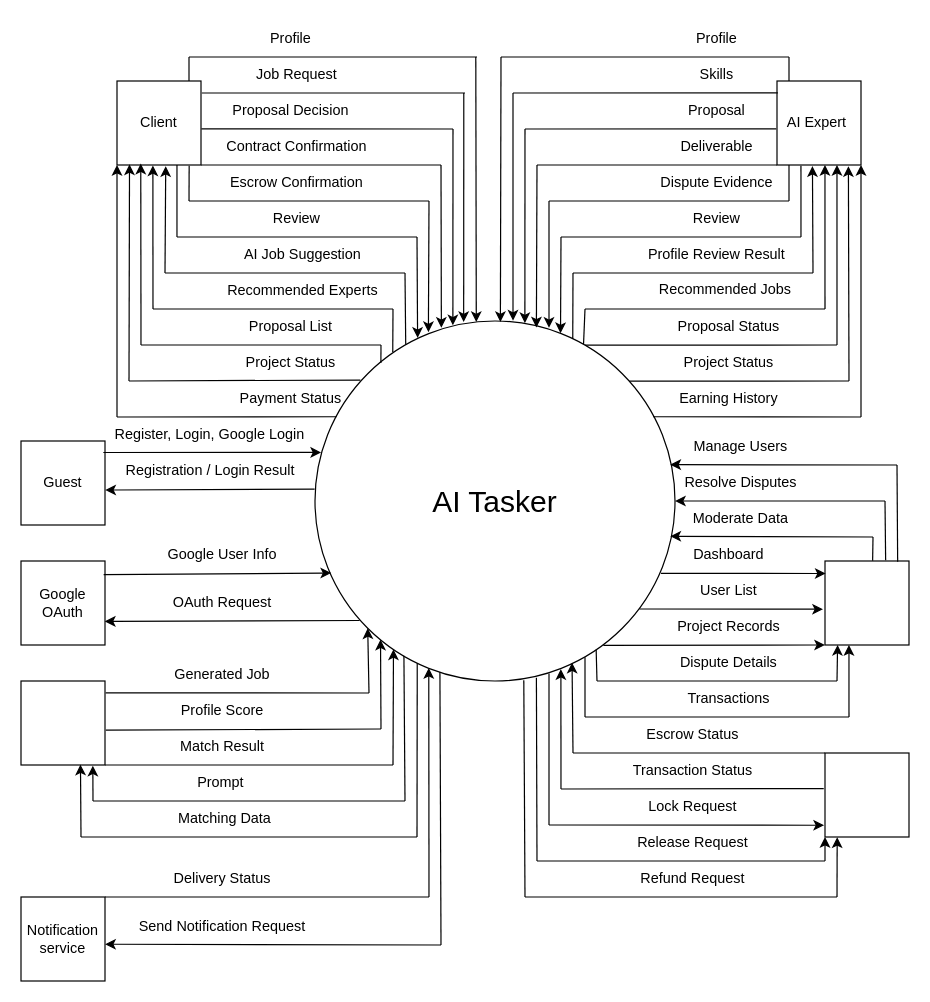
This 930x1002 diagram has some shape labels left out. The shapes that lost their labels are listed below. From the top down, each one's box as (x1, y1, x2, y2) in pixels, then its label:
(824, 560, 909, 645): Admin
(20, 680, 105, 765): AI API
(824, 752, 909, 837): scrow Module
